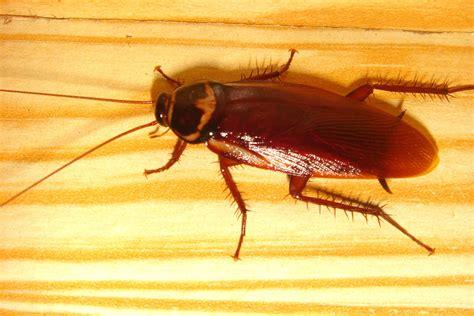cockroach: (142, 49, 438, 222)
